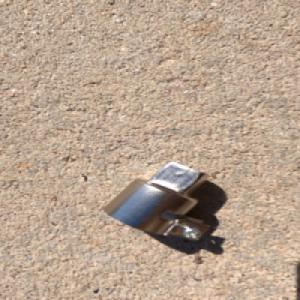MetalPart: (102, 159, 211, 242)
